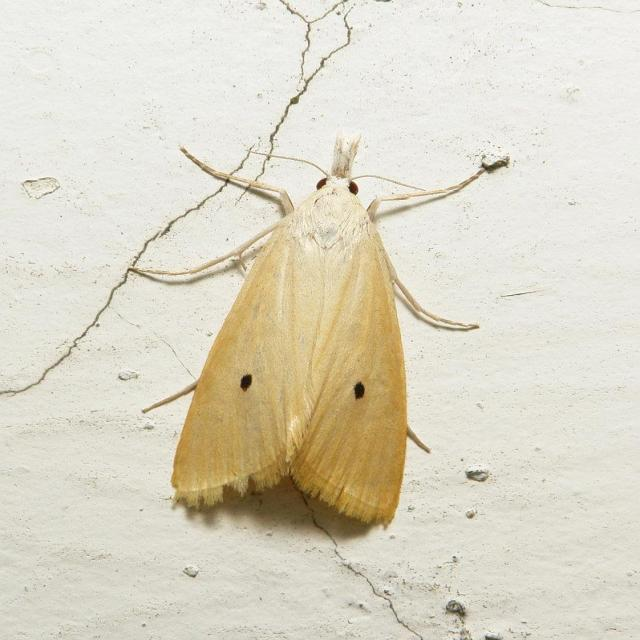yellow-stem-borer: (103, 85, 516, 568)
